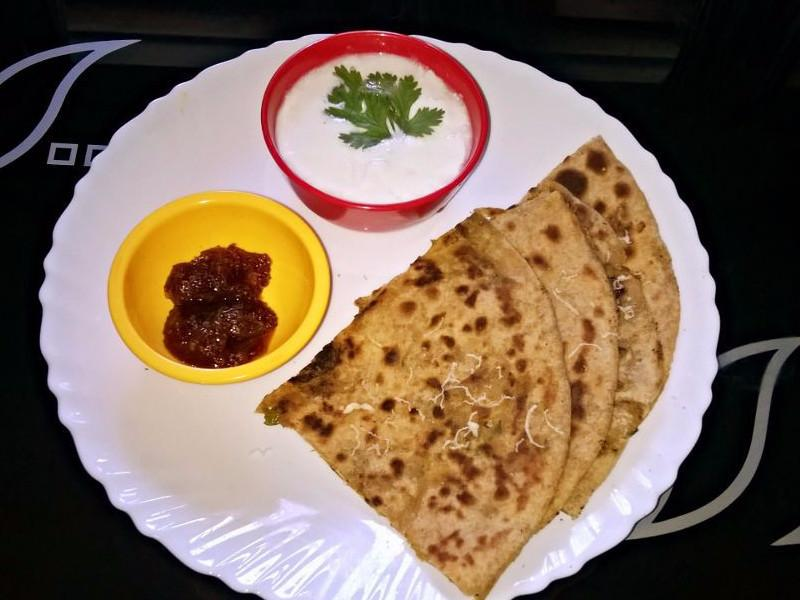aloo_paratha: (262, 136, 684, 588)
